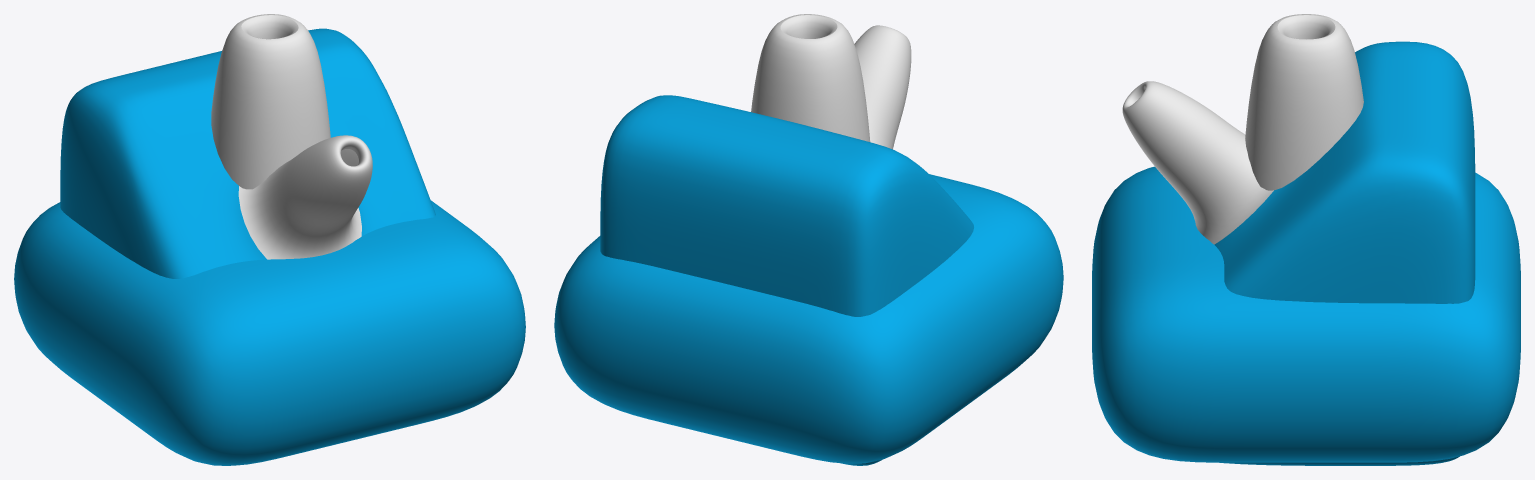
The model's file is Obstacle.fbx.
The picture shows the model from 3 angles, left to right: view 1: azimuth 30°, elevation 25°; view 2: azimuth 150°, elevation 25°; view 3: azimuth 270°, elevation 25°; orthographic projection. The views are drawn at different scales.
Visible parts, largest first — view 1: obstacle-1, Obstacle-2; view 2: obstacle-1, Obstacle-2; view 3: obstacle-1, Obstacle-2.
Boxes of the visible parts, bbox=[...] form: obstacle-1: bbox=[14, 14, 525, 465]; Obstacle-2: bbox=[60, 28, 435, 278]; obstacle-1: bbox=[554, 14, 1063, 463]; Obstacle-2: bbox=[600, 25, 973, 465]; obstacle-1: bbox=[1092, 14, 1520, 462]; Obstacle-2: bbox=[1122, 41, 1475, 465].
Size of the model in its own units: 91.93 by 89.04 by 91.93.
